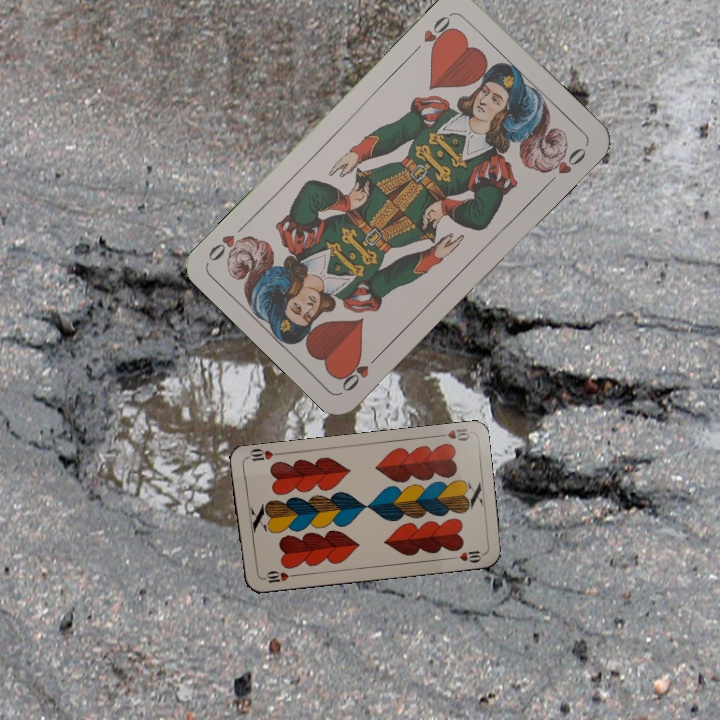H10: (258, 567, 298, 586), (432, 424, 472, 443)
HO: (408, 10, 457, 57), (337, 348, 384, 395)
